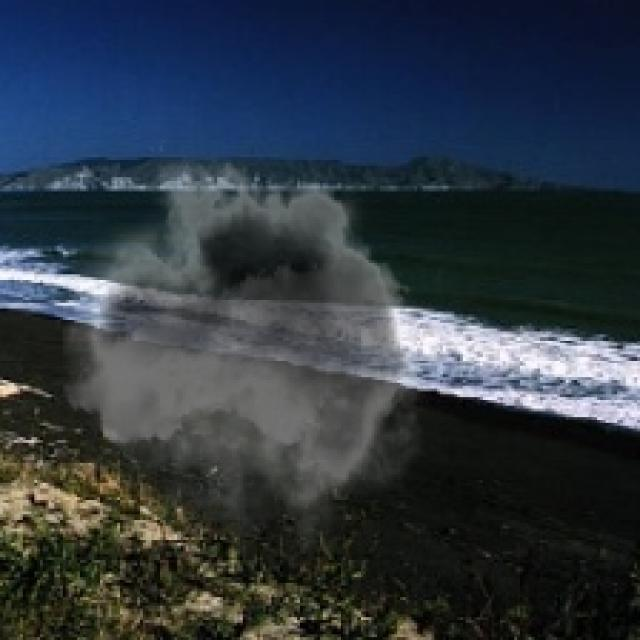smoke: (63, 140, 443, 554)
